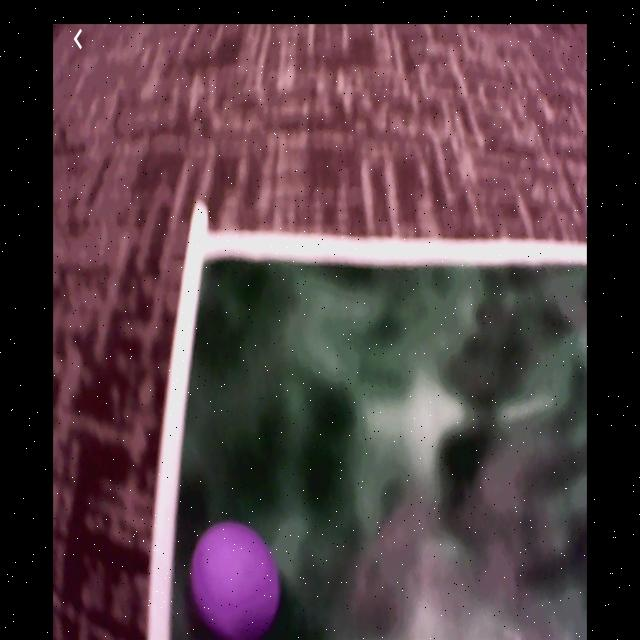ball: (192, 519, 285, 637)
